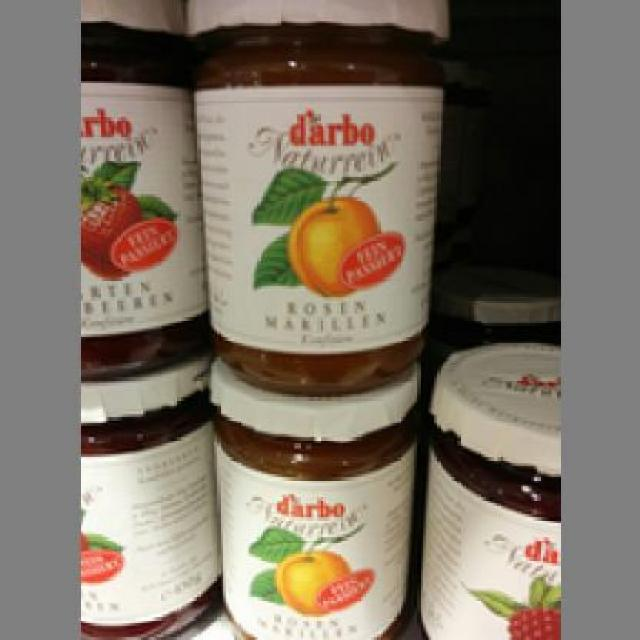Jam: (183, 0, 443, 389), (208, 357, 418, 637), (77, 0, 206, 377), (414, 340, 557, 637), (77, 360, 217, 637)
